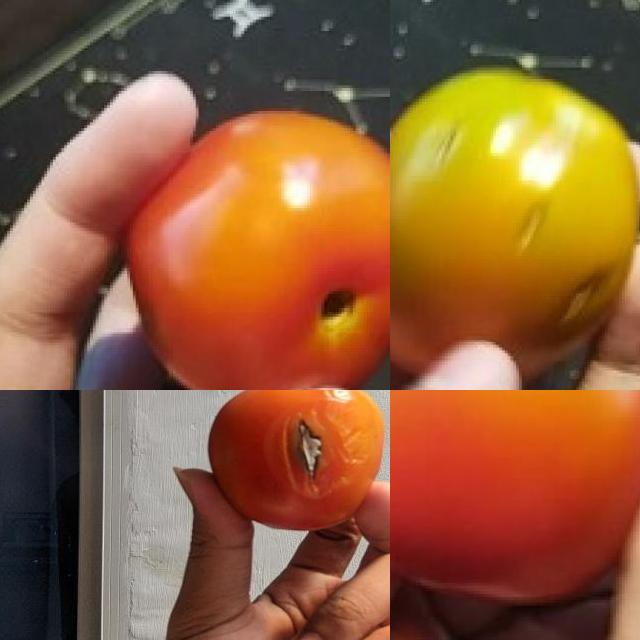Fresh Tomato: (112, 95, 390, 390), (390, 390, 640, 614)
Rotten Tomato: (390, 64, 640, 390), (204, 390, 388, 532)
